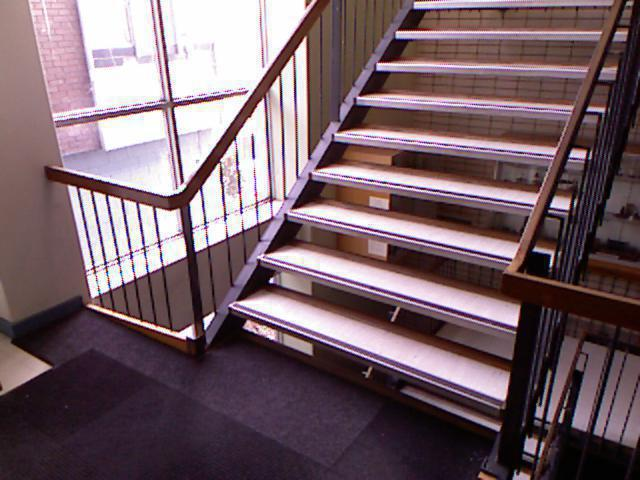Escaleras: (204, 0, 639, 457)
